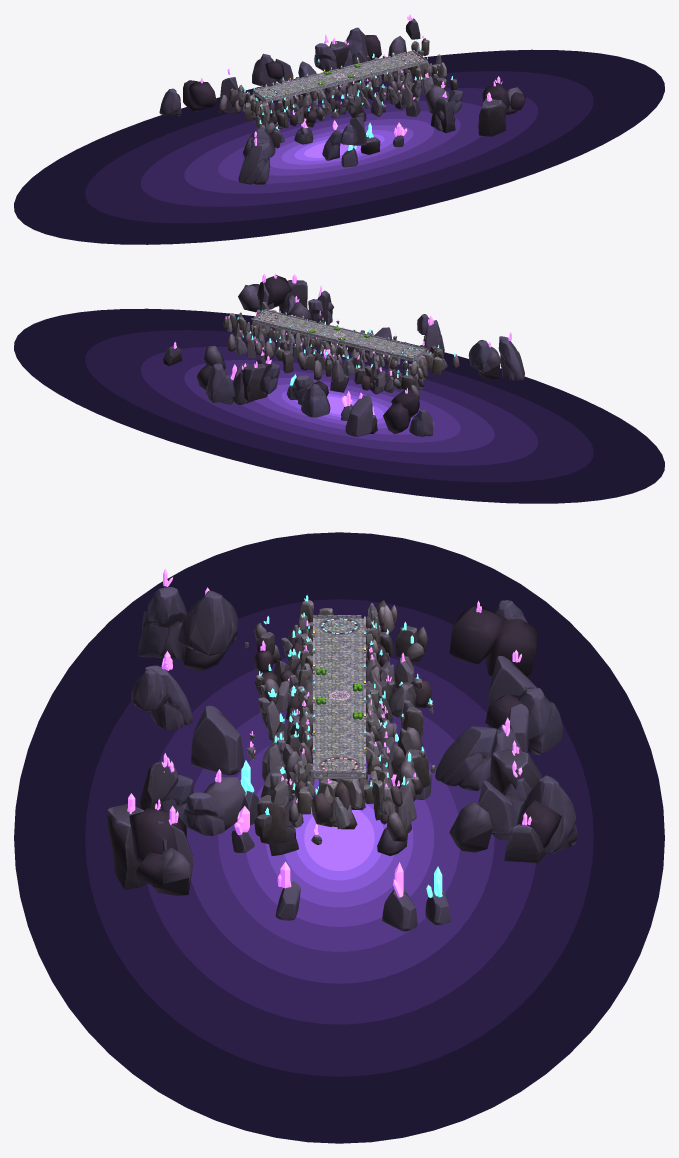
The model's file is arena.glb.
3 renders of one model, top to bottom at view 1: azimuth 30°, elevation 25°; view 2: azimuth 150°, elevation 25°; view 3: azimuth 270°, elevation 25°, orthographic. The views are drawn at different scales.
Parts seen in each view (by area): view 1: abyss, lane, crystals, walls; view 2: abyss, lane, crystals, walls; view 3: abyss, lane, crystals, walls.
Part boxes in pixels (<box>): abyss: <box>14,18,664,244</box>; lane: <box>252,51,426,109</box>; crystals: <box>200,14,502,150</box>; walls: <box>253,50,426,100</box>; abyss: <box>14,275,664,503</box>; lane: <box>252,310,426,370</box>; crystals: <box>173,273,511,414</box>; walls: <box>251,309,426,358</box>; abyss: <box>14,532,664,1143</box>; lane: <box>313,618,365,786</box>; crystals: <box>127,568,531,897</box>; walls: <box>312,615,366,774</box>.
Size of the model in its own units: 553 by 66.56 by 249.
24 materials, 7 textured.
